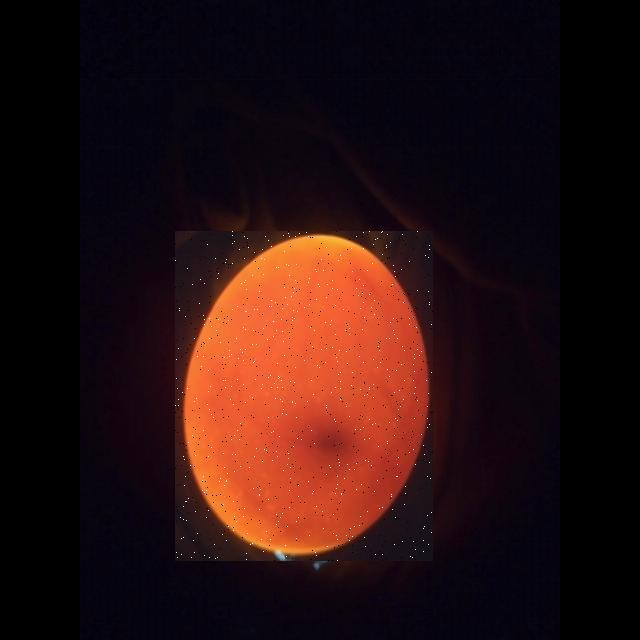Fertile: (175, 231, 433, 561)
